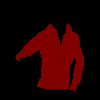felpa: (15, 22, 84, 92)
